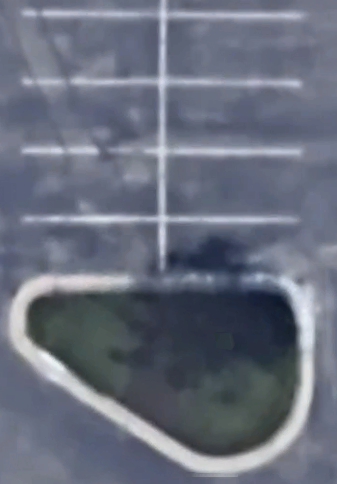Vacant: (21, 82, 163, 153), (163, 81, 303, 153), (162, 12, 303, 82), (22, 12, 162, 82), (20, 152, 162, 220), (163, 152, 302, 220), (20, 220, 161, 281), (162, 221, 302, 280)
